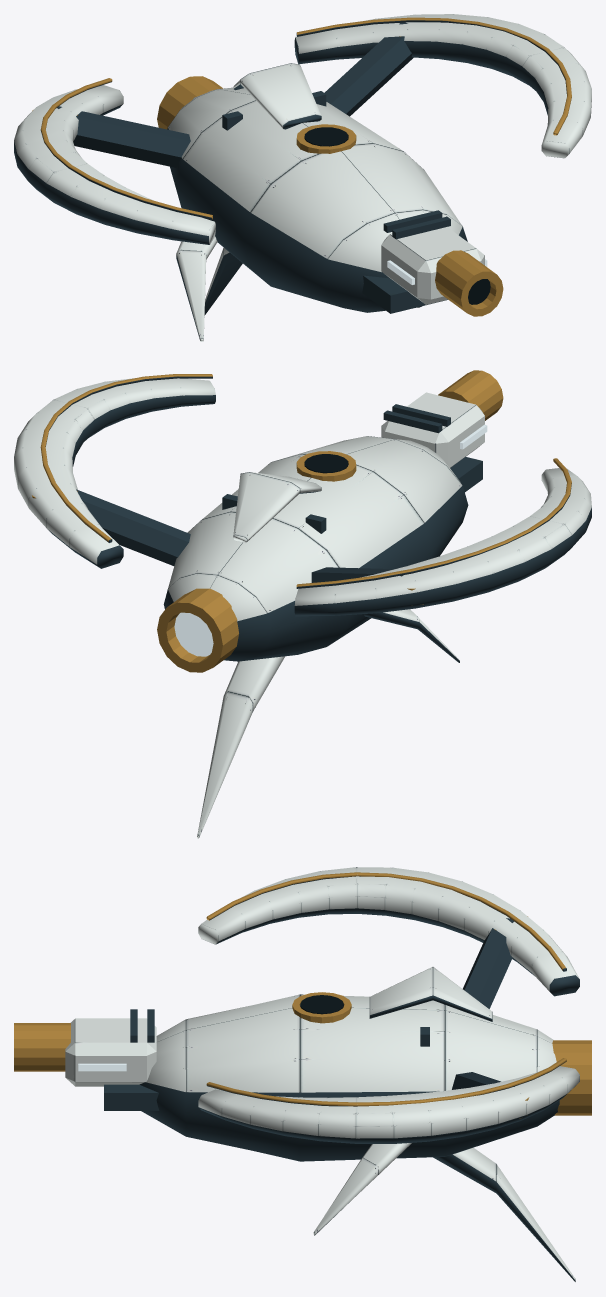
File: pioneer-europa-l07-laser.glb
3 renders of one model, top to bottom at view 1: azimuth 30°, elevation 25°; view 2: azimuth 150°, elevation 25°; view 3: azimuth 270°, elevation 25°, orthographic.
Visible parts, largest first — view 1: Drone; view 2: Drone; view 3: Drone.
Part boxes in pixels (left/top/right/bottom): Drone: left=14, top=14, right=591, bottom=341; Drone: left=14, top=370, right=591, bottom=838; Drone: left=14, top=867, right=591, bottom=1281.
Bounding box in the file's own units: 1.51 × 0.8489 × 1.46.
Materials: 3 (3 with a texture image).
